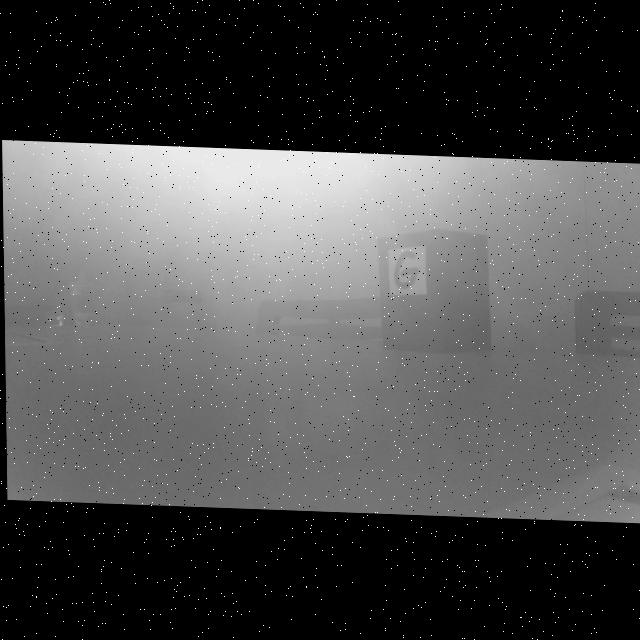G: (394, 248, 418, 286)
